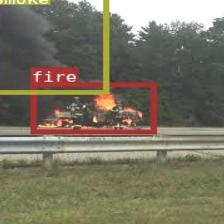fire: (30, 82, 155, 133)
smoke: (0, 0, 108, 93)
